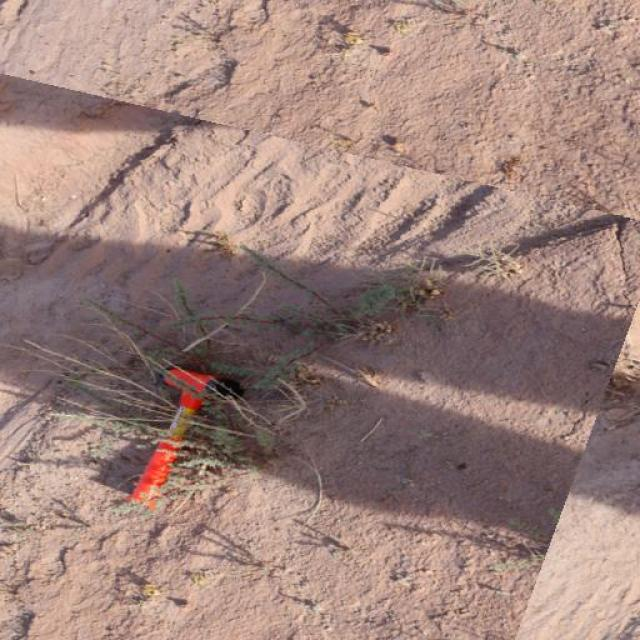mallet: (122, 362, 238, 510)
